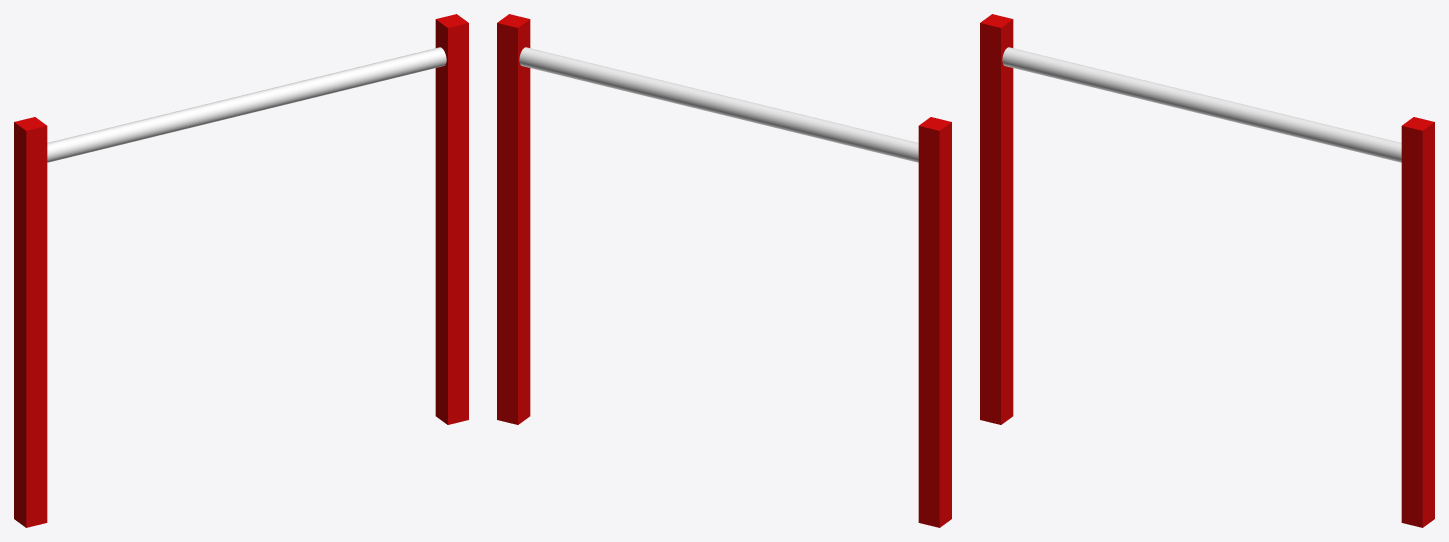
Rendered from Tetsubou.fbx.
3 renders of one model, left to right at view 1: azimuth 30°, elevation 25°; view 2: azimuth 150°, elevation 25°; view 3: azimuth 330°, elevation 25°, orthographic.
Visible parts, largest first — view 1: pCube2, pCube1, pCylinder1; view 2: pCube2, pCube1, pCylinder1; view 3: pCube1, pCube2, pCylinder1.
Part boxes in pixels (x1,y1,x2,y2): pCube2: (14, 117, 47, 527); pCube1: (435, 14, 468, 424); pCylinder1: (47, 47, 446, 162); pCube2: (918, 117, 951, 527); pCube1: (497, 14, 530, 424); pCylinder1: (519, 47, 918, 162); pCube1: (1401, 117, 1434, 527); pCube2: (980, 14, 1013, 424); pCylinder1: (1002, 47, 1401, 162).
Bounding box in the file's own units: 2.1 × 1.8 × 0.1.
